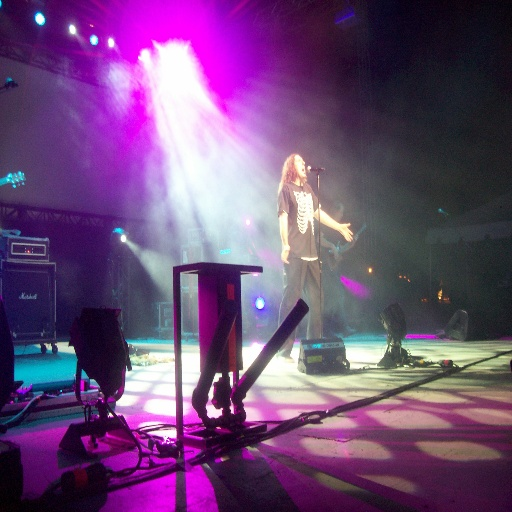hand: (336, 220, 356, 242), (278, 243, 291, 265)
